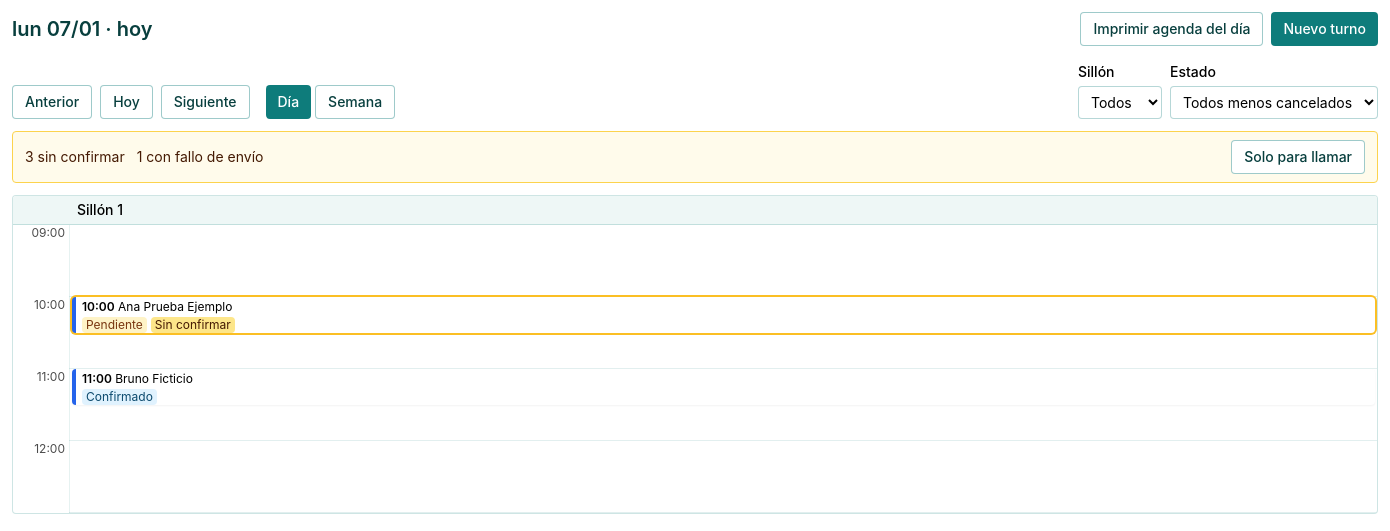
Test: AgendaPage › panel de seguimiento (C-11) › recepción ve los contadores y el filtro deja solo esos turnos
Expected: the text "3 sin confirmar" is shown, x1=25 y1=147 x2=125 y2=167
Expected: the text "1 con fallo de envío" is shown, x1=137 y1=147 x2=263 y2=167
Click the button "Solo para llamar": (1298,157) x1=1231 y1=140 x2=1365 y2=174
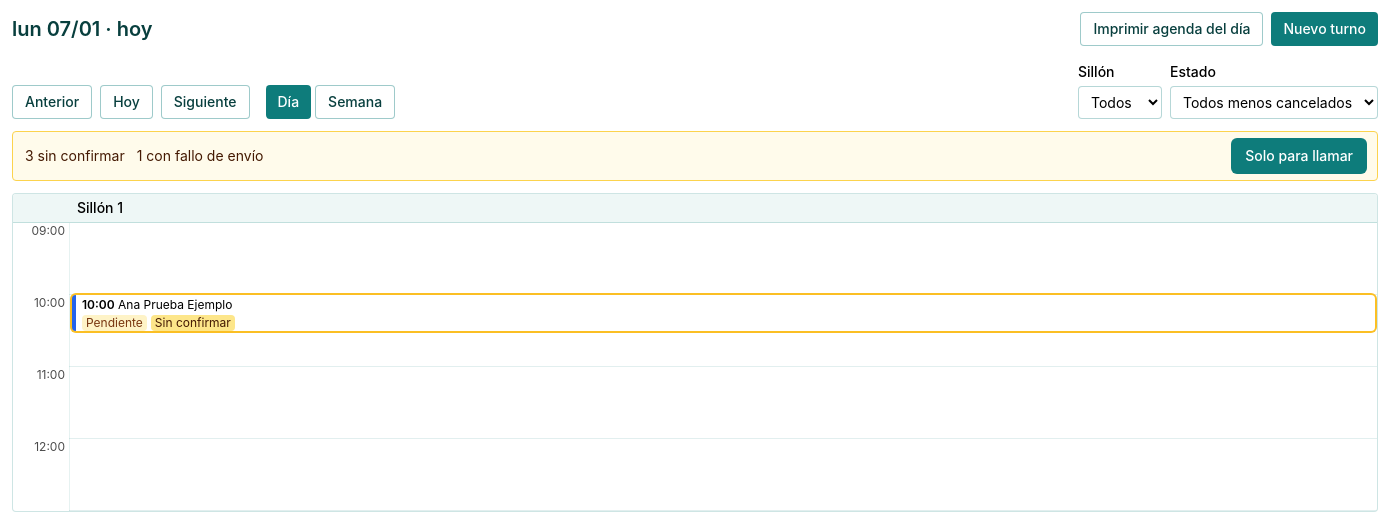
Expected: the button "10:00 Ana Prueba Ejemplo Pendiente Sin confirmar" is shown, x1=72 y1=295 x2=1375 y2=331
Expected: the button "Bruno Ficticio" is gone
